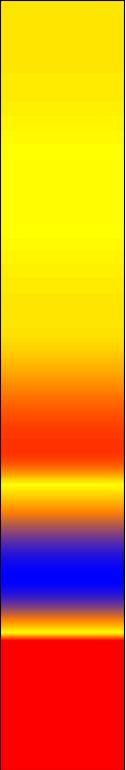Thermal Runaway: (6, 6, 118, 521), (6, 618, 116, 764)
critical: (5, 528, 122, 539), (6, 604, 116, 611)
safe: (7, 546, 120, 600)
